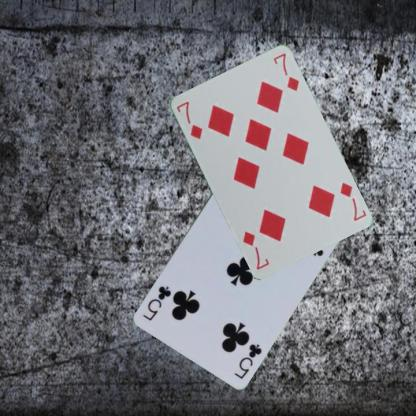5c: (231, 341, 263, 379)
7d: (337, 180, 367, 223), (174, 98, 204, 140)
